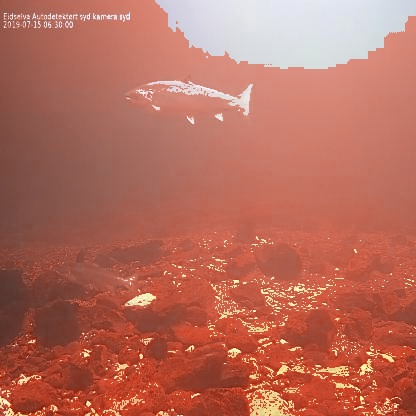salmon: (122, 71, 254, 128), (51, 256, 140, 297)
